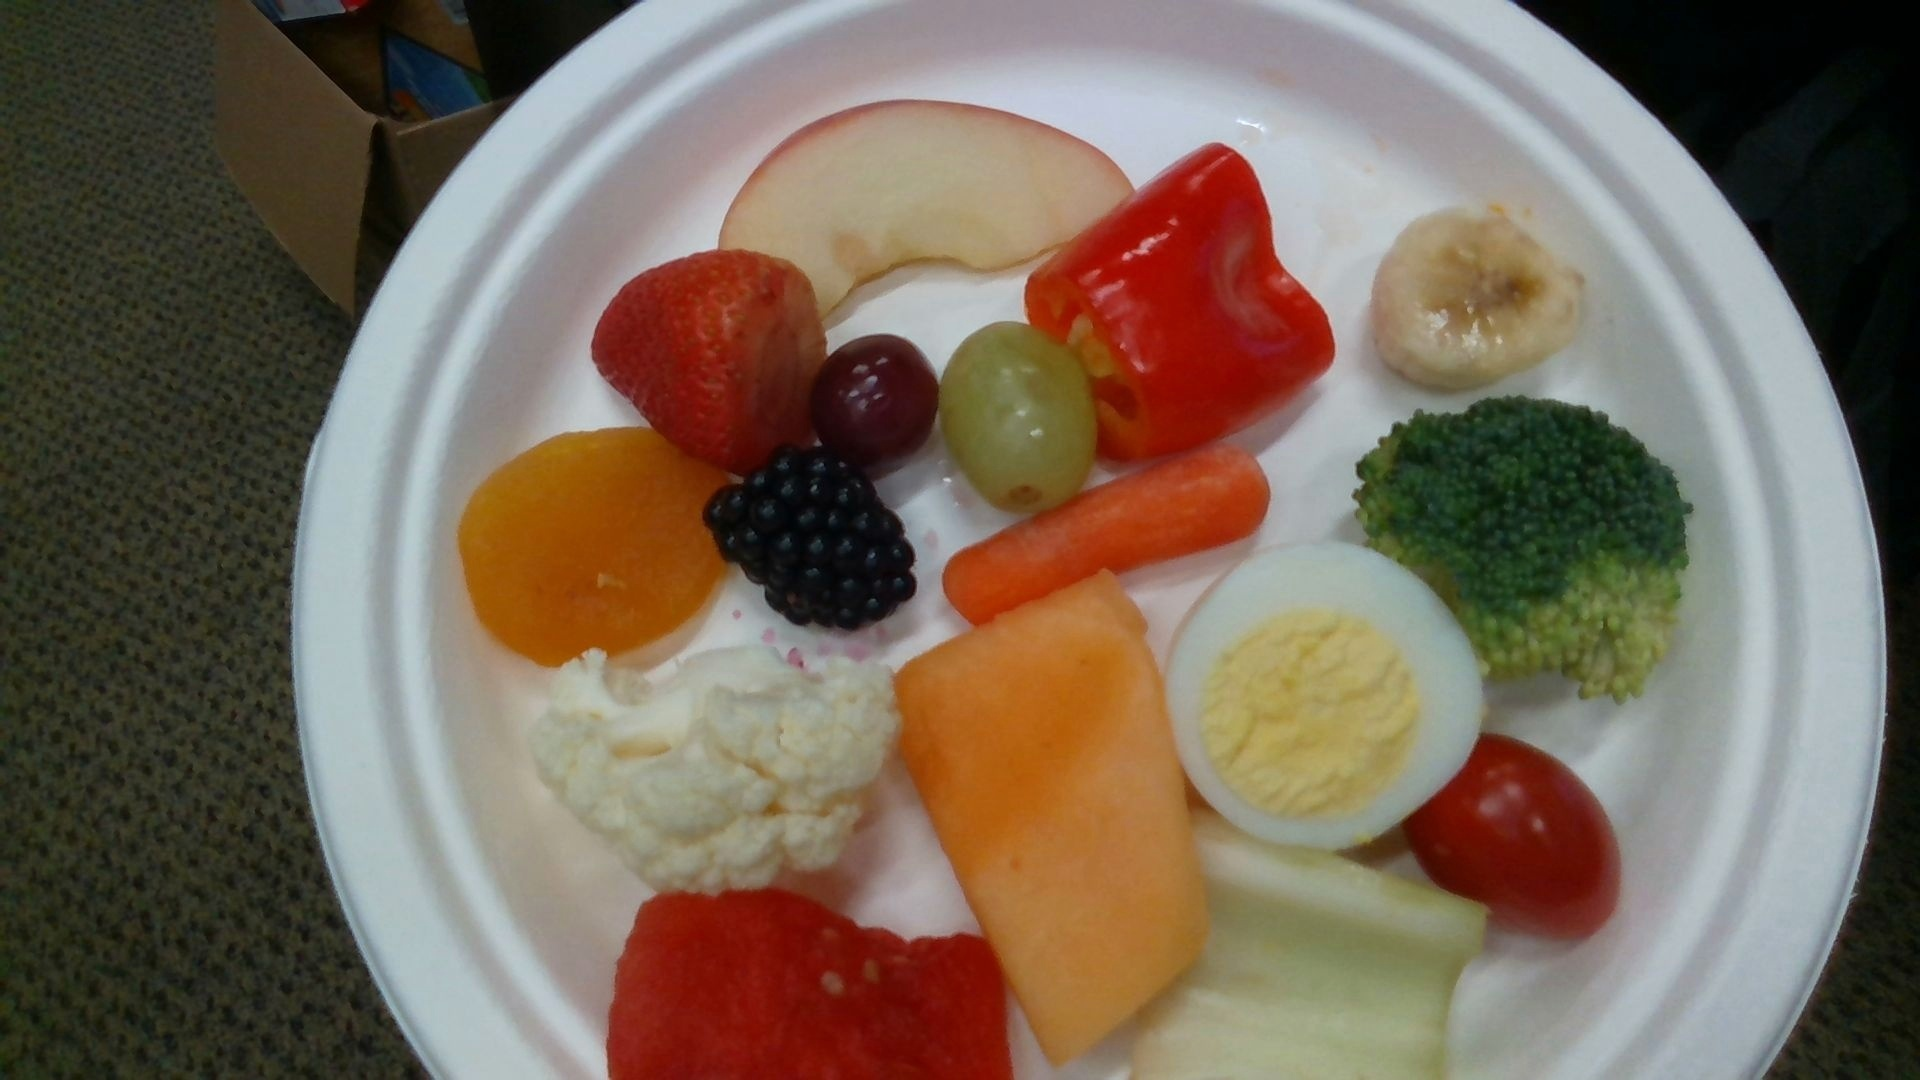apple: (720, 100, 1135, 309)
apricot: (459, 430, 735, 663)
banana: (1375, 215, 1578, 382)
bell_pepper: (1027, 148, 1335, 462)
blackberry: (705, 446, 914, 626)
broccoli: (1360, 396, 1684, 696)
cantalope: (891, 574, 1204, 1063)
carrot: (945, 443, 1269, 622)
cauliflower: (525, 651, 897, 893)
celery: (1129, 811, 1484, 1080)
cherry_tomato: (1407, 735, 1619, 942)
egg: (1164, 543, 1484, 848)
grape_green: (938, 324, 1095, 505)
grape_purple: (814, 338, 939, 473)
melon: (611, 895, 1005, 1080)
strawberry: (593, 251, 824, 468)
